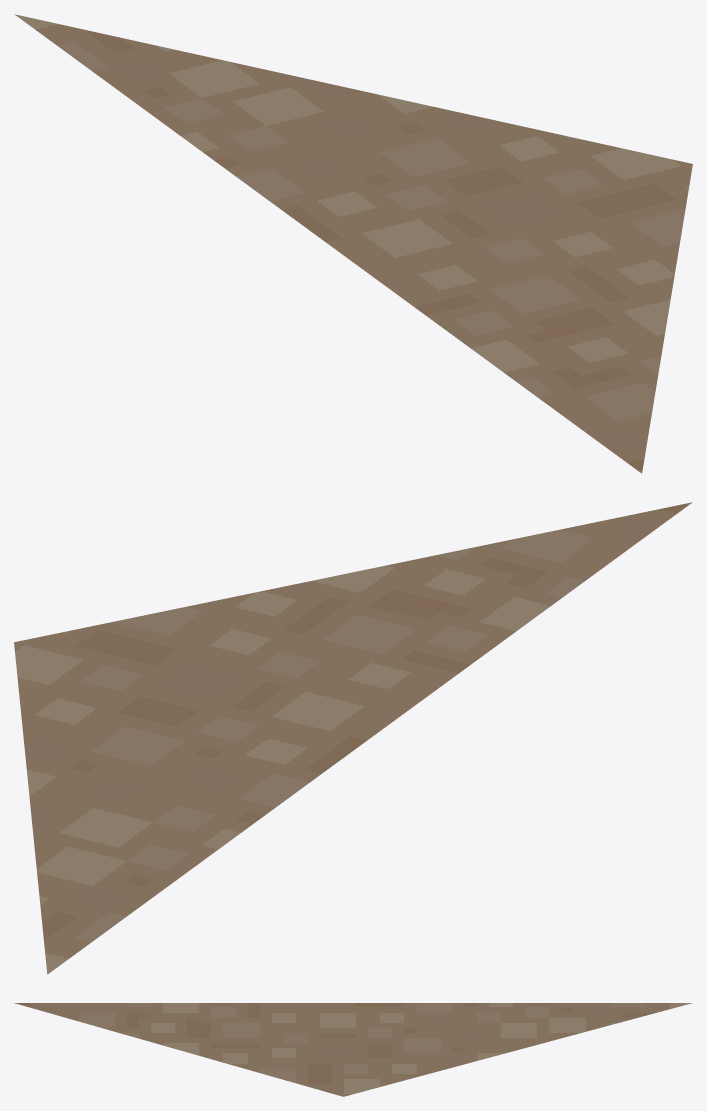
File: kd_stage_135fe0_4_71_bounded.glb
3 views of the same model, one above another, from view 1: azimuth 30°, elevation 25°; view 2: azimuth 150°, elevation 25°; view 3: azimuth 270°, elevation 25° (orthographic). The views are drawn at different scales.
Parts seen in each view (by area): view 1: kd_stage_135fe0_4_71_bounded; view 2: kd_stage_135fe0_4_71_bounded; view 3: kd_stage_135fe0_4_71_bounded.
Boxes of the visible parts, <box> form: kd_stage_135fe0_4_71_bounded: <box>14,14,692,473</box>; kd_stage_135fe0_4_71_bounded: <box>14,502,692,974</box>; kd_stage_135fe0_4_71_bounded: <box>14,1003,692,1096</box>.
Size of the model in its own units: 0.4867 by 0 by 1.49.
1 material, 1 textured.
